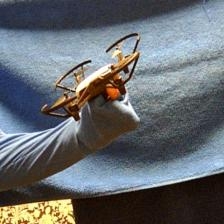drone: (40, 31, 142, 124)
